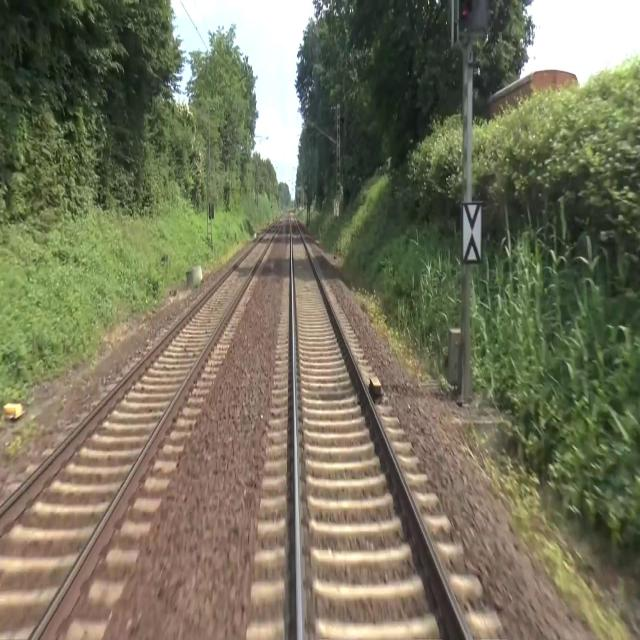rail-track: (0, 222, 280, 639), (291, 213, 469, 639)
